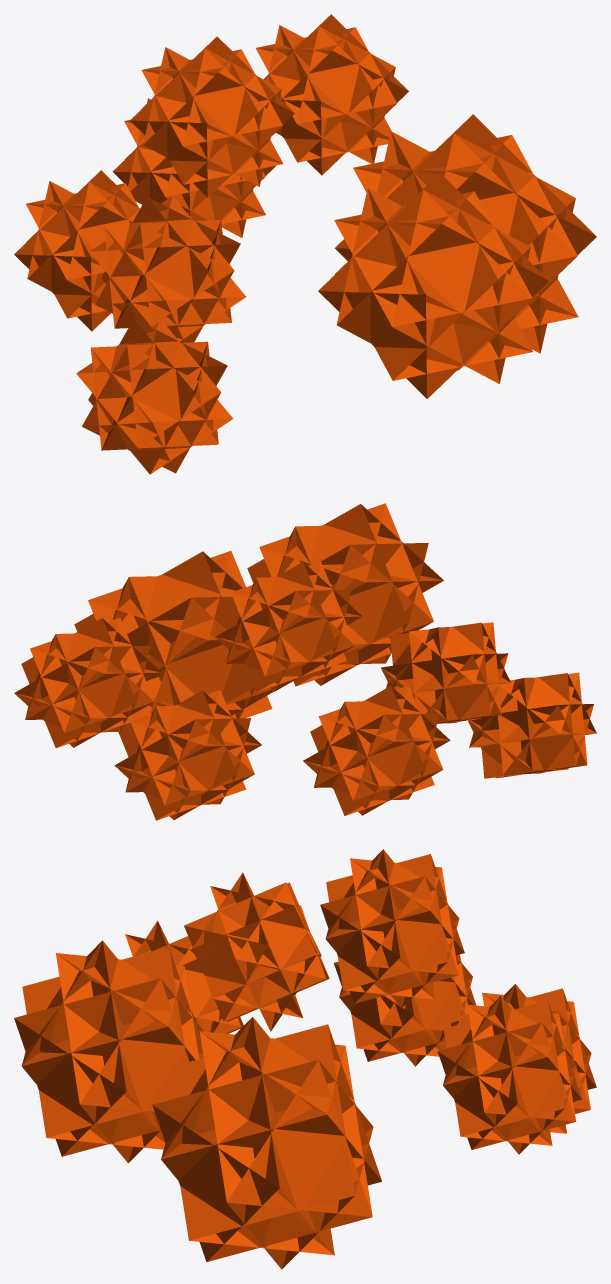
File: tree-autumn-leaves-032.glb
3 views of the same model, one above another, from view 1: azimuth 30°, elevation 25°; view 2: azimuth 150°, elevation 25°; view 3: azimuth 270°, elevation 25° (orthographic). The views are drawn at different scales.
Visible parts, largest first — view 1: Plane.038_366; view 2: Plane.038_366; view 3: Plane.038_366.
Part boxes in pixels (x1,y1,x2,y2): Plane.038_366: [14, 14, 596, 474]; Plane.038_366: [14, 503, 596, 820]; Plane.038_366: [14, 849, 596, 1269].
Size of the model in its own units: 2.01 by 1.14 by 1.92.
